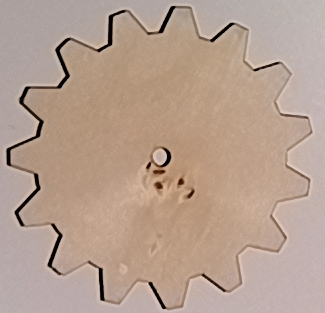Points: (153, 180, 165, 191), (186, 187, 196, 200), (152, 168, 168, 176), (143, 159, 153, 170), (176, 177, 186, 187)
